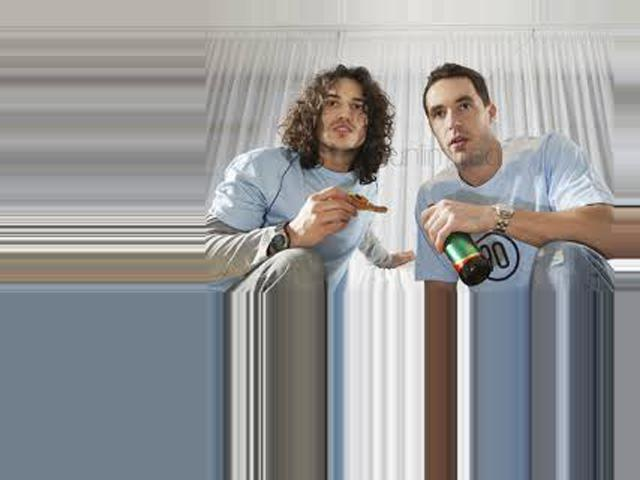beer: (427, 203, 493, 287)
